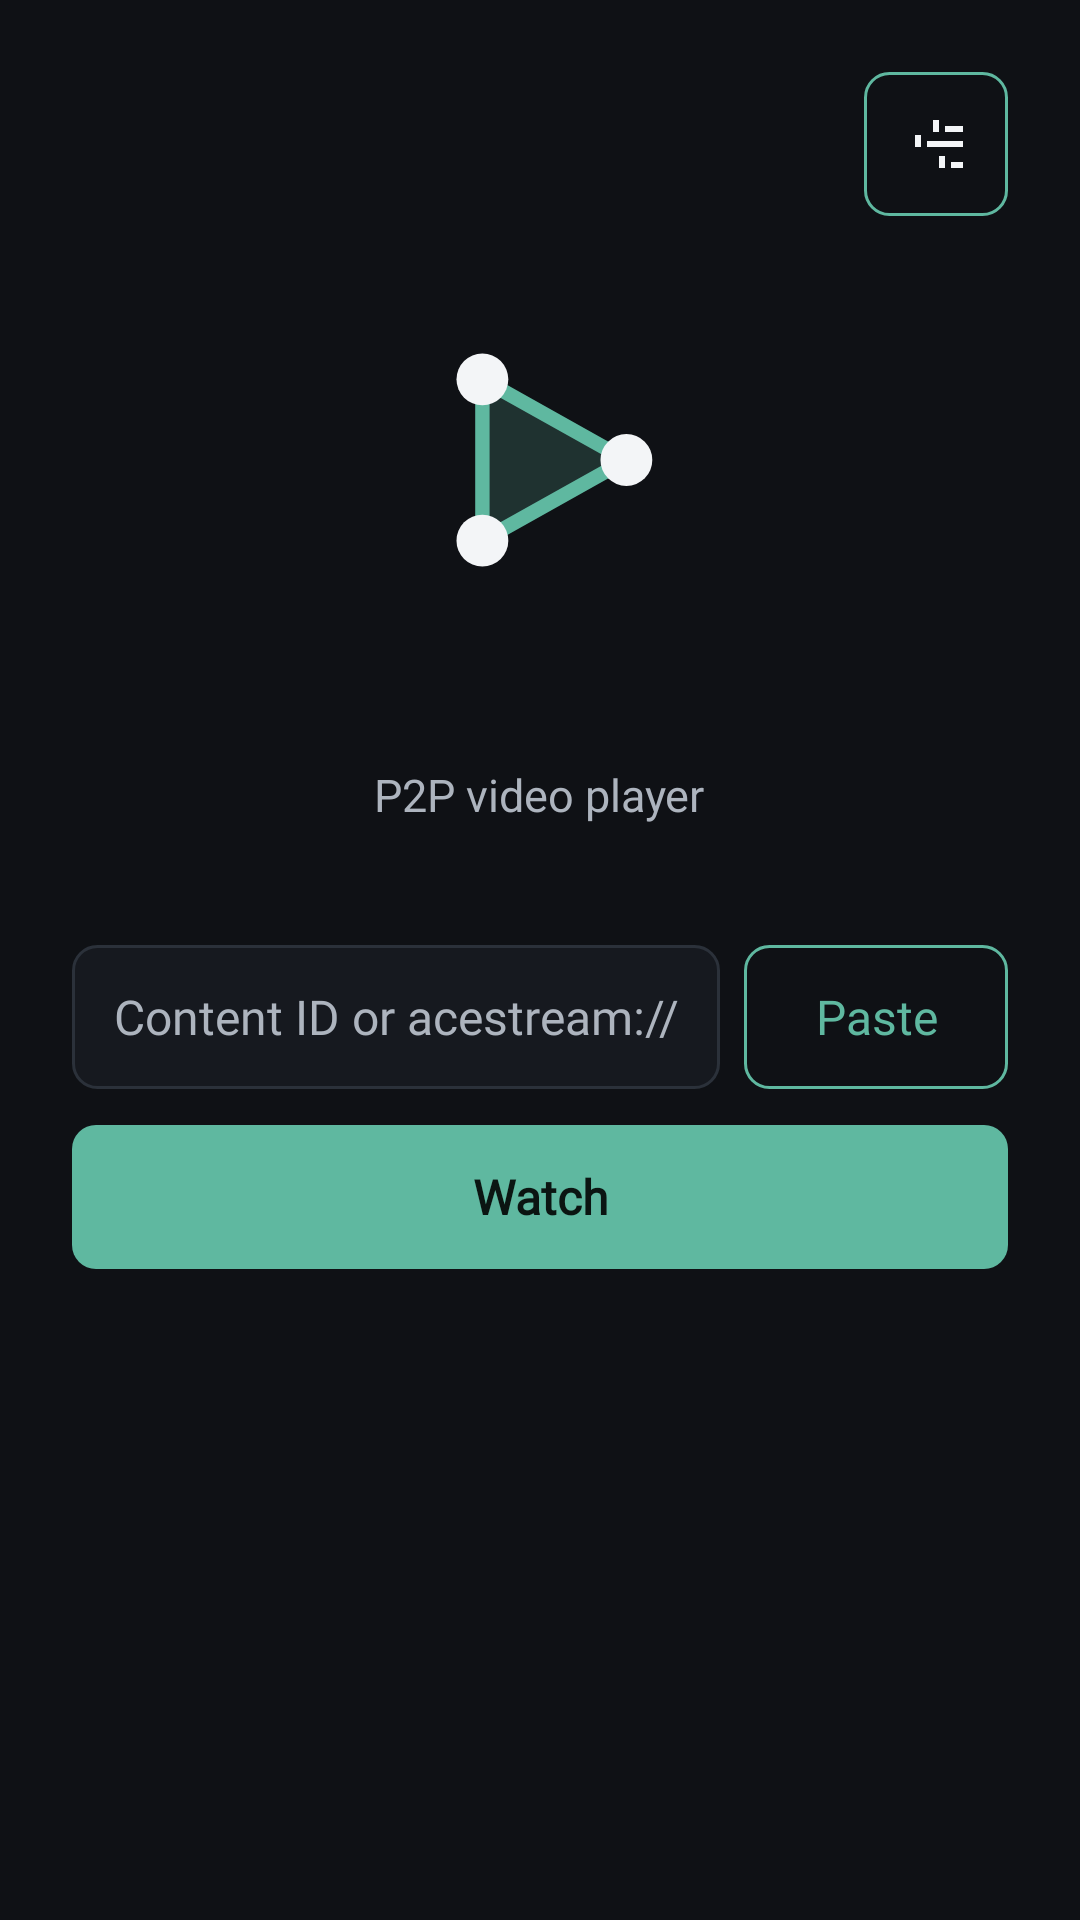

Named icons in this screenshot (1080×1920) and their bounding boxes, (x1, y1, x2, y2):
Settings: (864, 72, 1008, 216)
